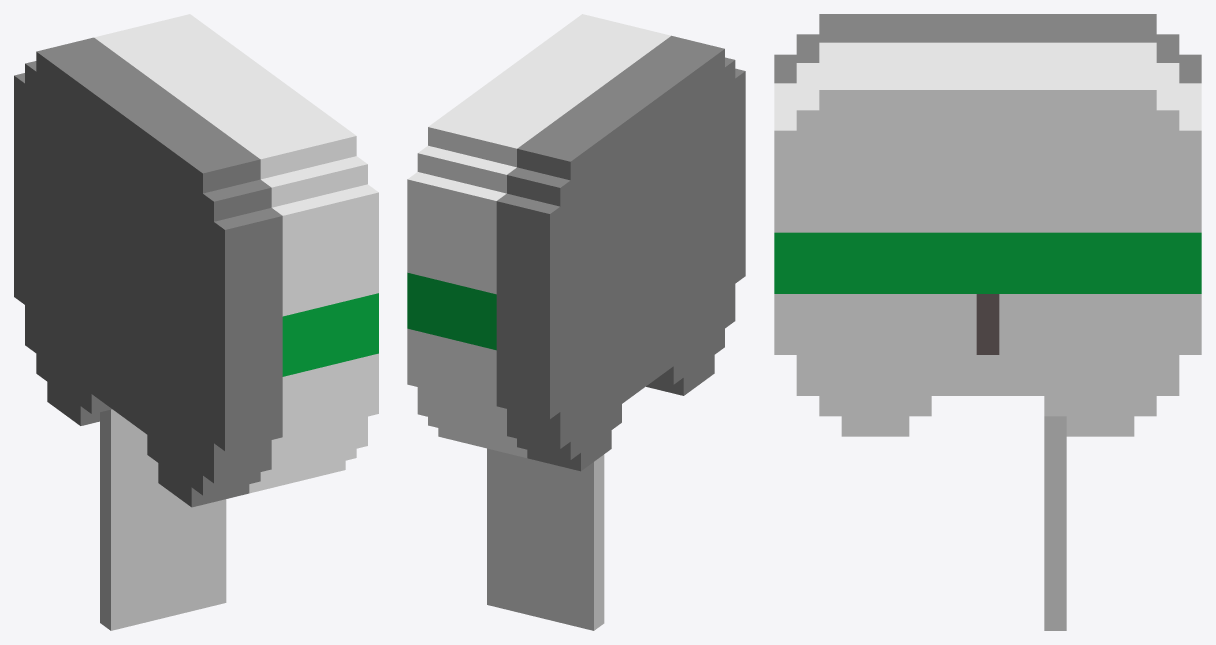
The model's file is Toilet1-3.fbx.
3 views of the same model, side by side, from view 1: azimuth 30°, elevation 25°; view 2: azimuth 150°, elevation 25°; view 3: azimuth 270°, elevation 25° (orthographic). The views are drawn at different scales.
Visible parts, largest first — view 1: Toilet1-3; view 2: Toilet1-3; view 3: Toilet1-3.
Boxes of the visible parts, x1,y1,x2,y2 form: Toilet1-3: (14,14,378,630); Toilet1-3: (407,14,745,630); Toilet1-3: (774,14,1201,630).
Size of the model in its own units: 0.8 by 2.7 by 1.9.
